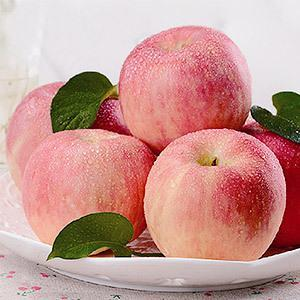apple: (143, 127, 286, 260), (119, 25, 252, 151), (22, 127, 152, 247)
